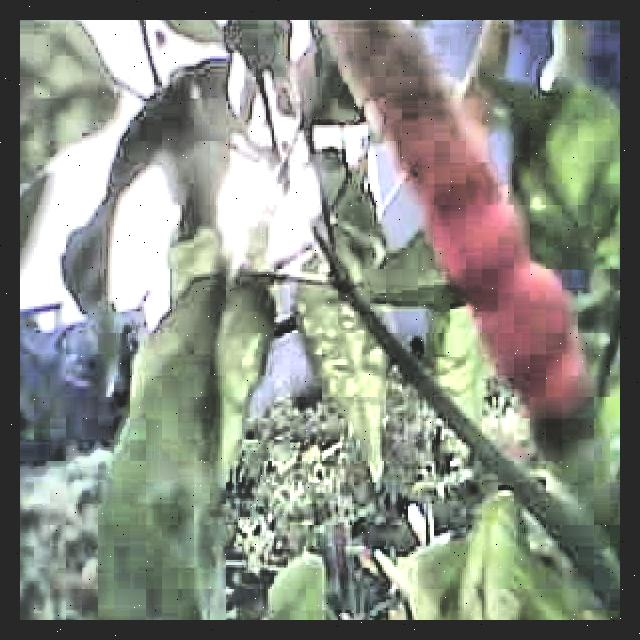Cabai: (324, 20, 620, 435)
